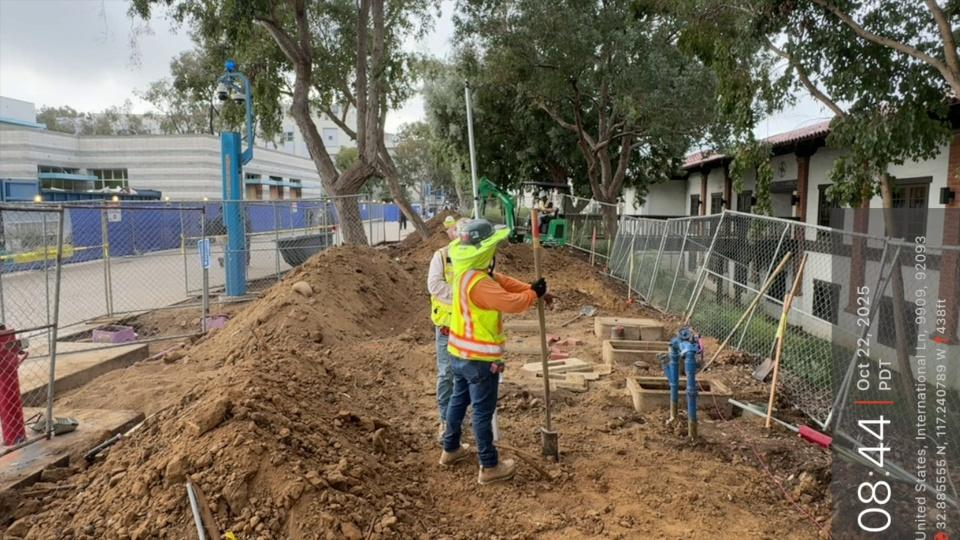Exacavator: (444, 149, 584, 247)
